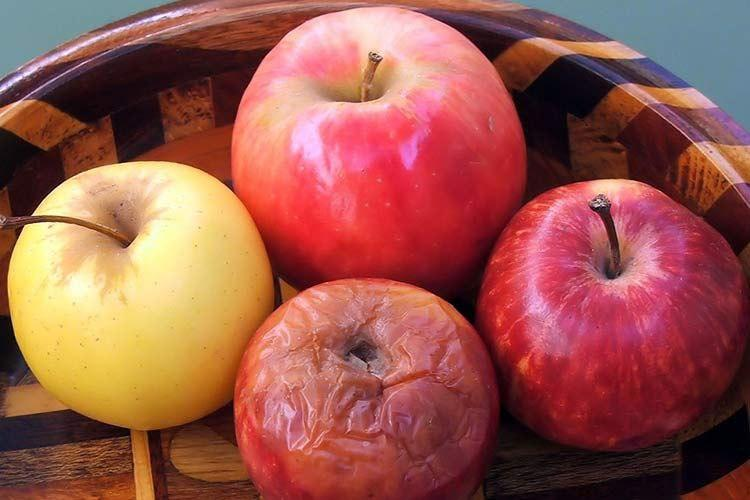Apple: (236, 11, 524, 277), (488, 164, 744, 455), (8, 172, 232, 433), (238, 279, 494, 500)
